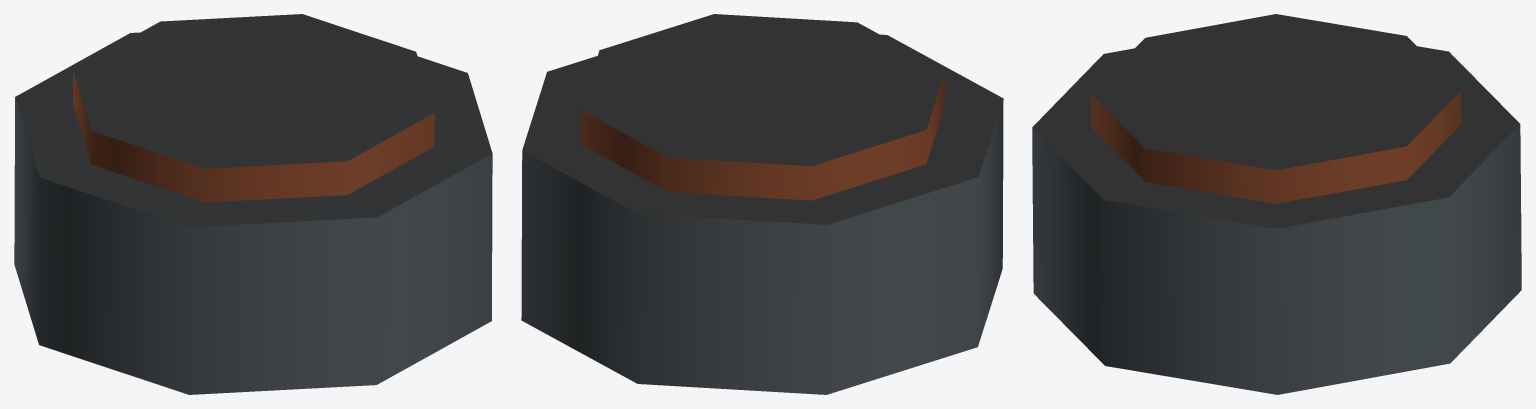
File: SpikeShell.fbx
The picture shows the model from 3 angles, left to right: view 1: azimuth 30°, elevation 25°; view 2: azimuth 150°, elevation 25°; view 3: azimuth 270°, elevation 25°; orthographic projection. The views are drawn at different scales.
Parts seen in each view (by area): view 1: Shock Prong.L.002; view 2: Shock Prong.L.002; view 3: Shock Prong.L.002.
Part boxes in pixels (left/top/right/bottom): Shock Prong.L.002: left=14, top=14, right=492, bottom=394; Shock Prong.L.002: left=521, top=14, right=1003, bottom=394; Shock Prong.L.002: left=1032, top=14, right=1521, bottom=394.
Size of the model in its own units: 146 by 66.74 by 146.
